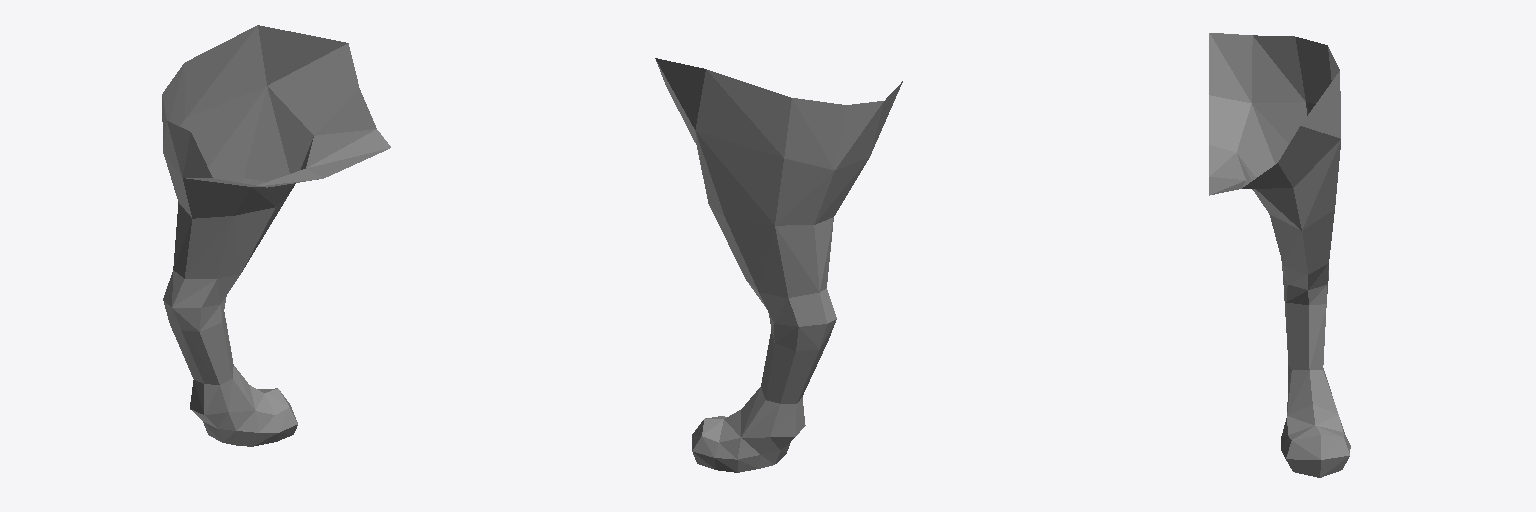
The model's file is WBackLeftLeg.obj.
The picture shows the model from 3 angles: view 1: azimuth 30°, elevation 25°; view 2: azimuth 150°, elevation 25°; view 3: azimuth 270°, elevation 25°; orthographic projection.
Visible parts, largest first — view 1: WBackLeftleg; view 2: WBackLeftleg; view 3: WBackLeftleg.
Boxes of the visible parts, box(x1,y1,x2,y2) form: WBackLeftleg: box(162, 25, 390, 446); WBackLeftleg: box(655, 58, 902, 472); WBackLeftleg: box(1209, 33, 1350, 477).
Bounding box in the file's own units: 2.5 × 4.67 × 1.48.